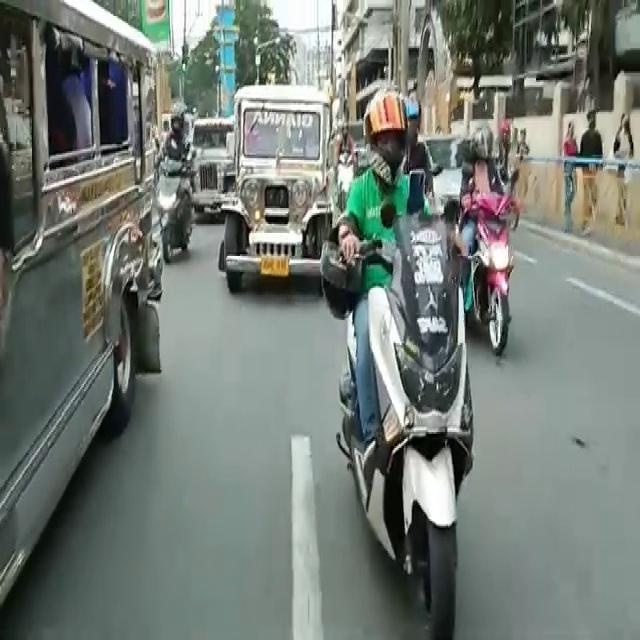jeepney: (0, 54, 155, 575), (208, 90, 336, 305), (191, 117, 233, 218)
motorcycle: (342, 149, 450, 599), (458, 146, 512, 354), (142, 114, 188, 298)
